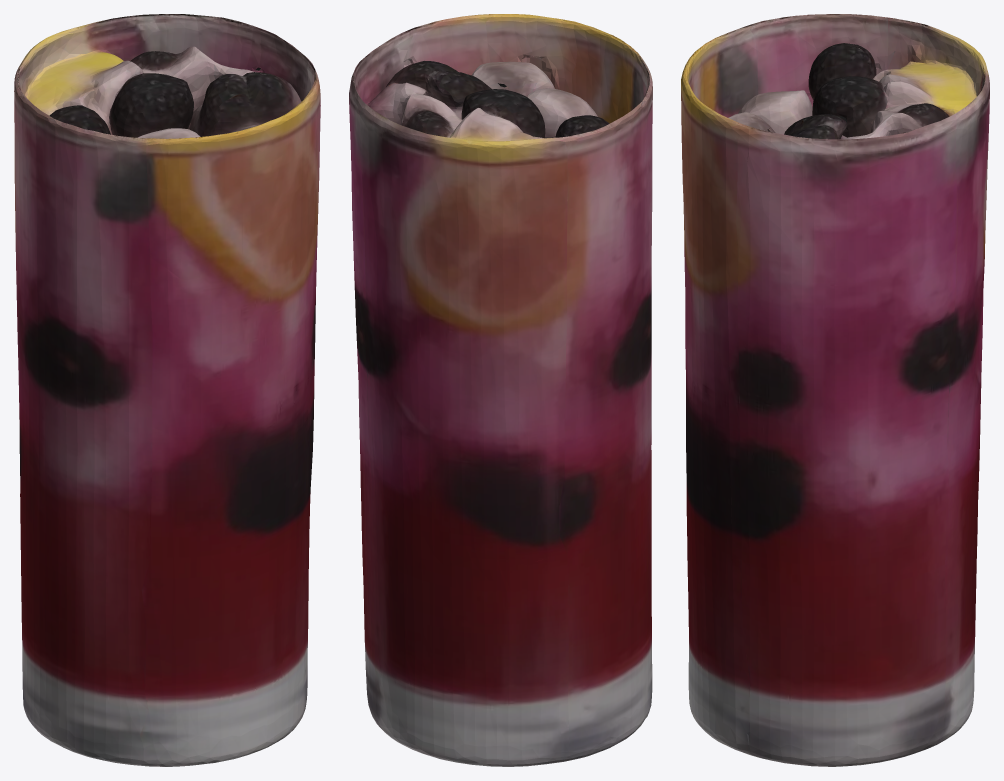
The model's file is p_blackirish.glb.
3 views of the same model, side by side, from view 1: azimuth 30°, elevation 25°; view 2: azimuth 150°, elevation 25°; view 3: azimuth 270°, elevation 25° (orthographic).
Visible parts, largest first — view 1: geometry_0; view 2: geometry_0; view 3: geometry_0.
Part boxes in pixels (x1=…): geometry_0: x1=14, y1=14, x2=320, y2=766; geometry_0: x1=349, y1=14, x2=652, y2=766; geometry_0: x1=681, y1=14, x2=989, y2=766.
Bounding box in the file's own units: 0.4347 × 1 × 0.4398.
Materials: 1 (1 with a texture image).
